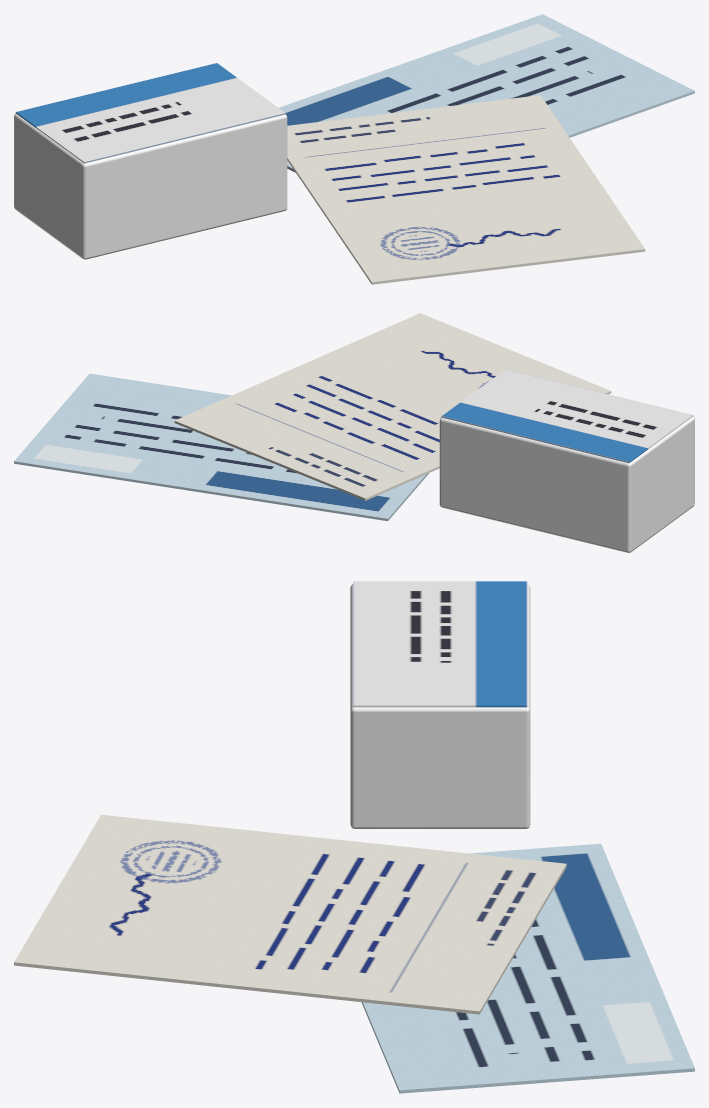
Rendered from escena.casa.bono_y_receta.fbx.
The picture shows the model from 3 angles, top to bottom: view 1: azimuth 30°, elevation 25°; view 2: azimuth 150°, elevation 25°; view 3: azimuth 270°, elevation 25°; orthographic projection. The views are drawn at different scales.
Parts seen in each view (by area): view 1: Receta, Caja del remedio, Bono, Cara de la caja; view 2: Receta, Caja del remedio, Bono, Cara de la caja; view 3: Receta, Bono, Caja del remedio, Cara de la caja.
Part boxes in pixels (x1,y1,x2,y2): Receta: (287,95,645,284); Caja del remedio: (14,113,287,259); Bono: (279,14,694,172); Cara de la caja: (15,63,285,163); Receta: (174,313,611,500); Caja del remedio: (439,417,694,552); Bono: (14,373,429,521); Cara de la caja: (441,369,693,463); Receta: (14,814,566,1014); Bono: (361,843,694,1093); Caja del remedio: (350,584,530,828); Cara de la caja: (353,581,527,707).
Bounding box in the file's own units: 0.3073 × 0.0456 × 0.227.
4 materials, 3 textured.
